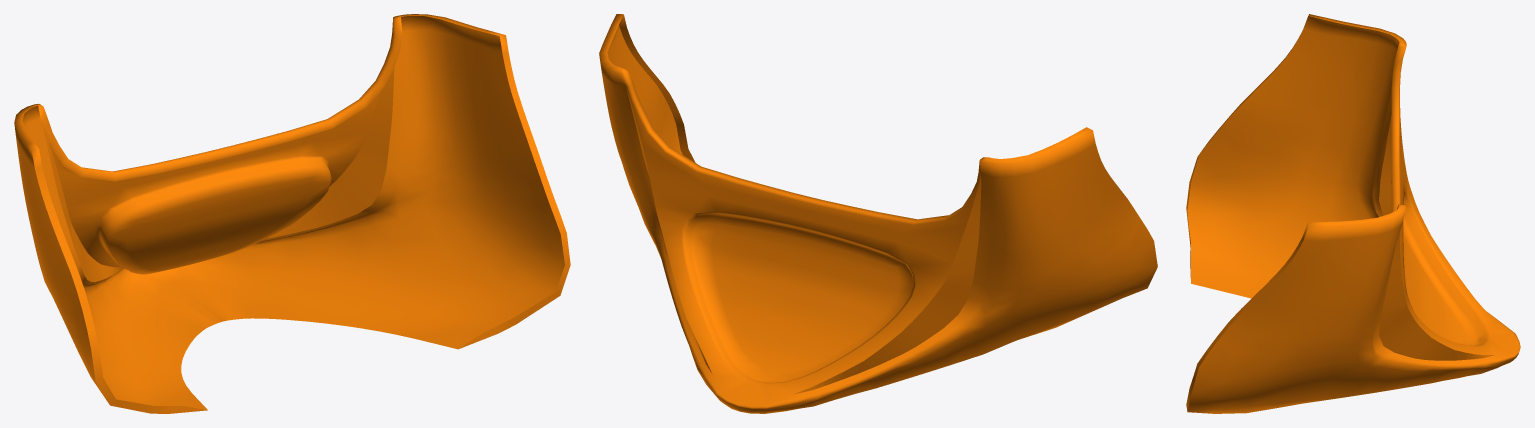
Rendered from chin_MEANY.glb.
3 views of the same model, side by side, from view 1: azimuth 30°, elevation 25°; view 2: azimuth 150°, elevation 25°; view 3: azimuth 270°, elevation 25° (orthographic). The views are drawn at different scales.
Parts seen in each view (by area): view 1: Chin_MEANY; view 2: Chin_MEANY; view 3: Chin_MEANY.
Part boxes in pixels (<box>): Chin_MEANY: <box>14,14,570,413</box>; Chin_MEANY: <box>599,14,1157,413</box>; Chin_MEANY: <box>1186,14,1520,413</box>.
Bounding box in the file's own units: 0.3384 × 0.1785 × 0.2248.
